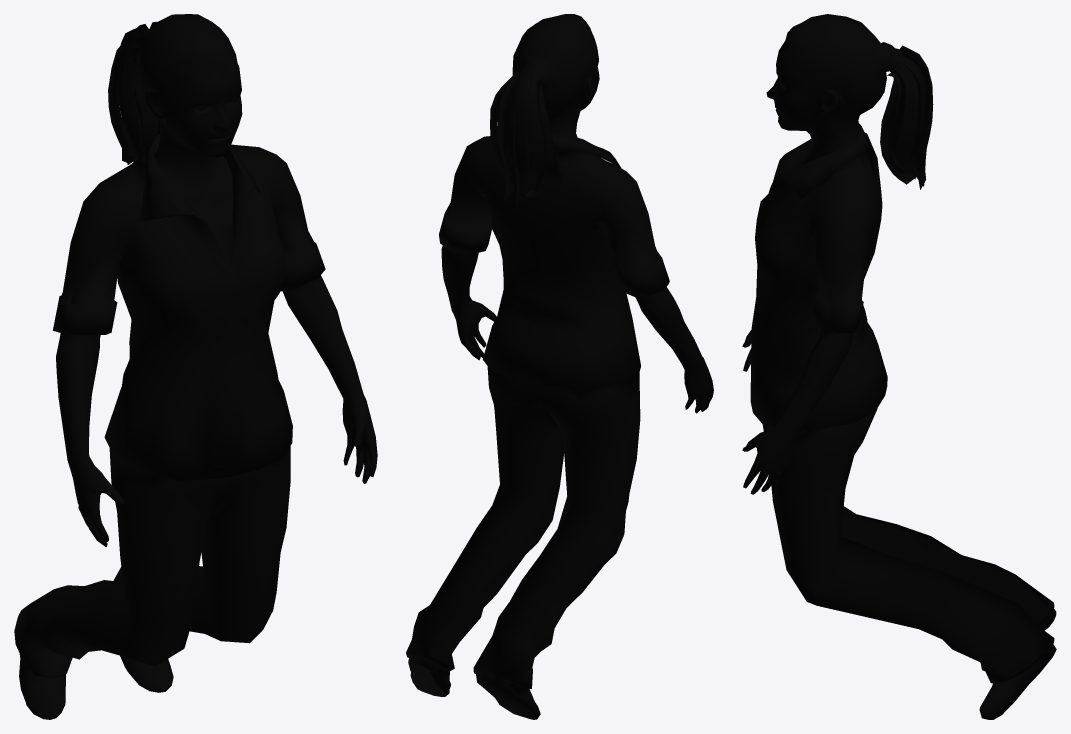
3 views of the same model, side by side, from view 1: azimuth 30°, elevation 25°; view 2: azimuth 150°, elevation 25°; view 3: azimuth 270°, elevation 25° (orthographic). The views are drawn at different scales.
Visible parts, largest first — view 1: rocketbox-f-walking; view 2: rocketbox-f-walking; view 3: rocketbox-f-walking.
Part boxes in pixels (bbox=[...]): rocketbox-f-walking: bbox=[14, 14, 377, 719]; rocketbox-f-walking: bbox=[406, 14, 713, 719]; rocketbox-f-walking: bbox=[742, 14, 1056, 719].
Size of the model in its own units: 0.5703 by 1.41 by 0.5952.
Materials: 1 (1 with a texture image).
